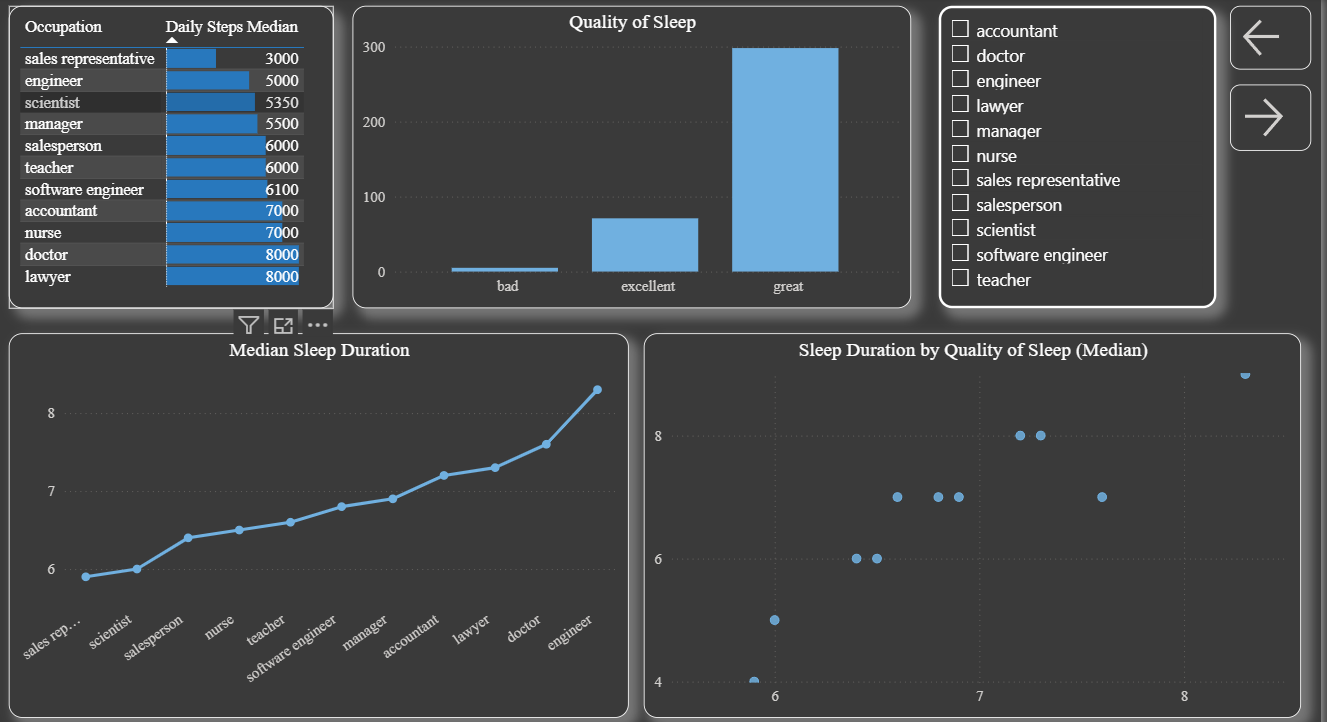

What the dashboard file says about the page in this screenshot:
{"tool":"powerbi","page":{"name":"Page 3","canvas":[1280,720],"ordinal":2},"visuals":[{"type":"lineChart","title":"Median Sleep Duration","fields":{"Category":["Sleep_health_and_lifestyle_dataset.occupation"],"Y":["Median(Sleep_health_and_lifestyle_dataset.sleep duration)"]},"box":[13.3,324.5,598.4,371.6],"z":0},{"type":"tableEx","fields":{"Values":["Sleep_health_and_lifestyle_dataset.occupation","Median(Sleep_health_and_lifestyle_dataset.daily steps)"]},"box":[13.3,8.4,313.7,292],"z":1000},{"type":"scatterChart","title":"Sleep Duration by Quality of Sleep (Median)","fields":{"X":["Median(Sleep_health_and_lifestyle_dataset.sleep duration)"],"Y":["Median(Sleep_health_and_lifestyle_dataset.quality of sleep)"],"Category":["Sleep_health_and_lifestyle_dataset.occupation"]},"box":[626.1,324.5,634.6,371.6],"z":2000},{"type":"clusteredColumnChart","title":"Quality of Sleep ","fields":{"Category":["Sleep_health_and_lifestyle_dataset.quality of sleep categorised"],"Y":["CountNonNull(Sleep_health_and_lifestyle_dataset.occupation)"]},"box":[345,8.4,539.3,292],"z":3000},{"type":"listSlicer","fields":{"Values":["Sleep_health_and_lifestyle_dataset.occupation"]},"box":[910.9,8.4,267.8,292],"z":4000},{"type":"actionButton","box":[1192,8.4,78.4,61.5],"z":5000},{"type":"actionButton","box":[1192,84.5,78.4,63.9],"z":6000}]}

Visuals, with their boxes in screenshot pixels (x1, y1, x2, y2):
"Median Sleep Duration" lineChart: (10, 329, 624, 710)
tableEx - Sleep_health_and_lifestyle_dataset.occupation x Median(Sleep_health_and_lifestyle_dataset.daily steps): (10, 5, 332, 305)
"Sleep Duration by Quality of Sleep (Median)" scatterChart: (639, 329, 1290, 710)
"Quality of Sleep " clusteredColumnChart: (350, 5, 903, 305)
listSlicer - Sleep_health_and_lifestyle_dataset.occupation: (931, 5, 1205, 305)
actionButton: (1219, 5, 1299, 68)
actionButton: (1219, 83, 1299, 149)
